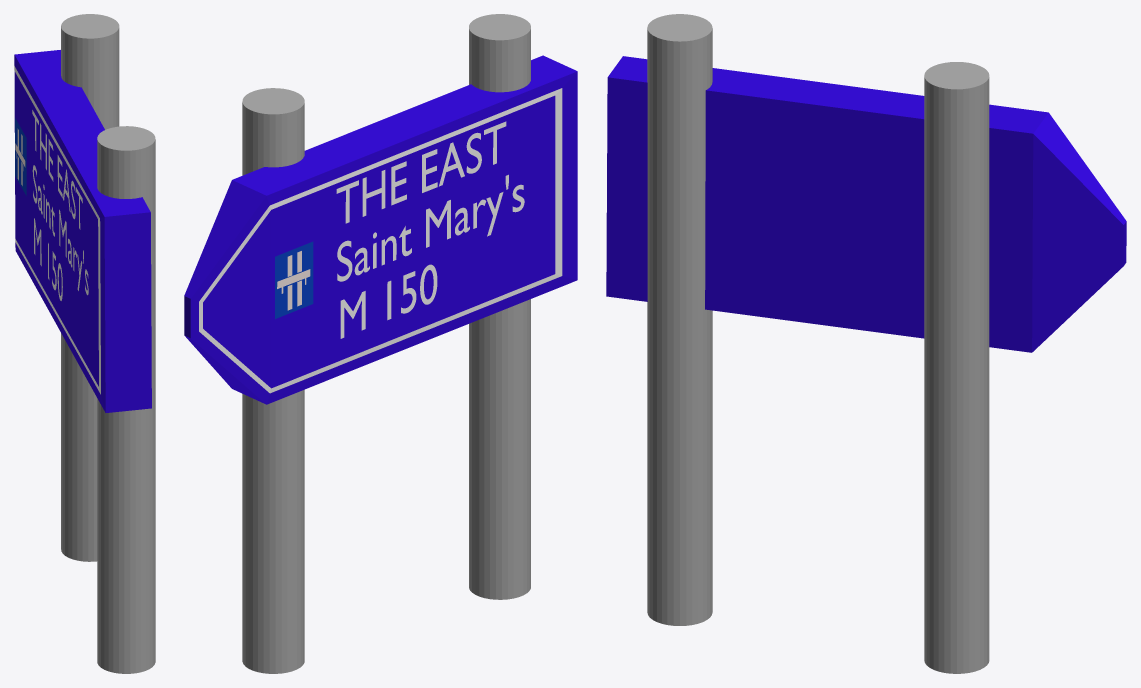
File: ChevronLeftHalifaxParkRoundabout1.fbx
3 views of the same model, side by side, from view 1: azimuth 30°, elevation 25°; view 2: azimuth 150°, elevation 25°; view 3: azimuth 270°, elevation 25° (orthographic). The views are drawn at different scales.
Parts seen in each view (by area): view 1: ChevronLeft_LOD0, Text.007, Text.008; view 2: ChevronLeft_LOD0, Text.007, Text.008; view 3: ChevronLeft_LOD0.
Part boxes in pixels (box(x1,y1,x2,y2)): ChevronLeft_LOD0: box(14, 14, 155, 673); Text.007: box(32, 110, 88, 295); Text.008: box(34, 218, 62, 300); ChevronLeft_LOD0: box(184, 14, 577, 673); Text.007: box(336, 121, 524, 281); Text.008: box(340, 264, 437, 338); ChevronLeft_LOD0: box(606, 14, 1126, 673).
Size of what is drawn, in the model's own units: 120 by 374 by 302.
